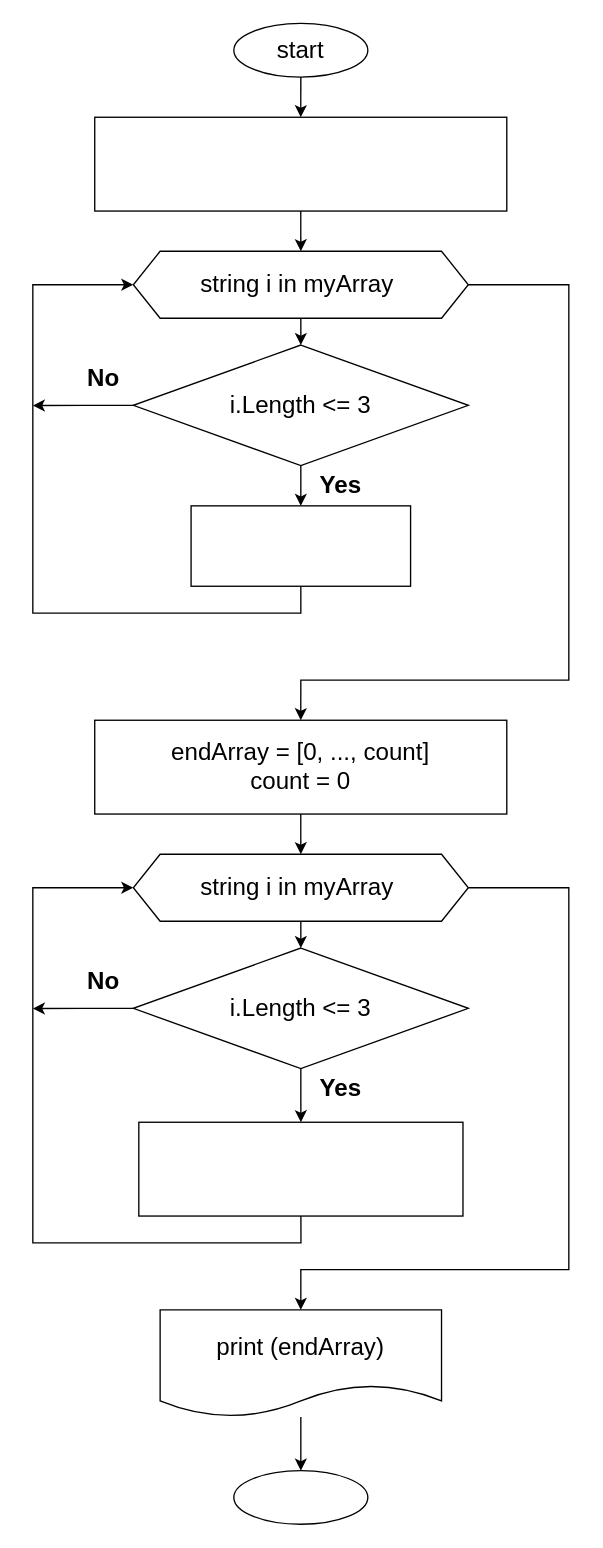
Image size: 603x1548. Some labels were removed from this diagram. The box of each missing label's shape, as (x1, y1, x2, y2) in pixels:
count ++: (190, 505, 411, 586)
endArray [ count ] = i count ++: (137, 1121, 463, 1216)
finish: (232, 1469, 368, 1524)
myArray = [ "Hello", "2", "world", ":-)" ] count = 0: (93, 116, 507, 211)
